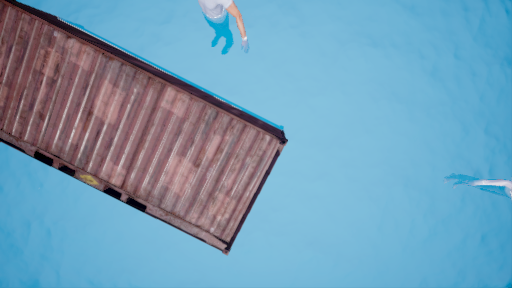person: (196, 2, 256, 64)
